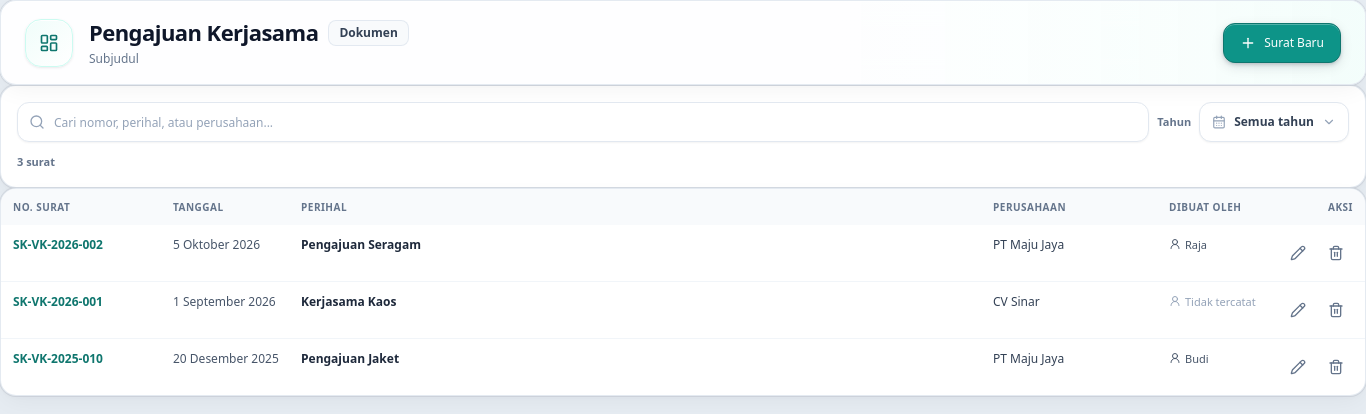
Test: LetterListView › pencarian menyaring baris
In the field named "Cari surat": (583, 122) [17,102,1149,142], type "kaos"
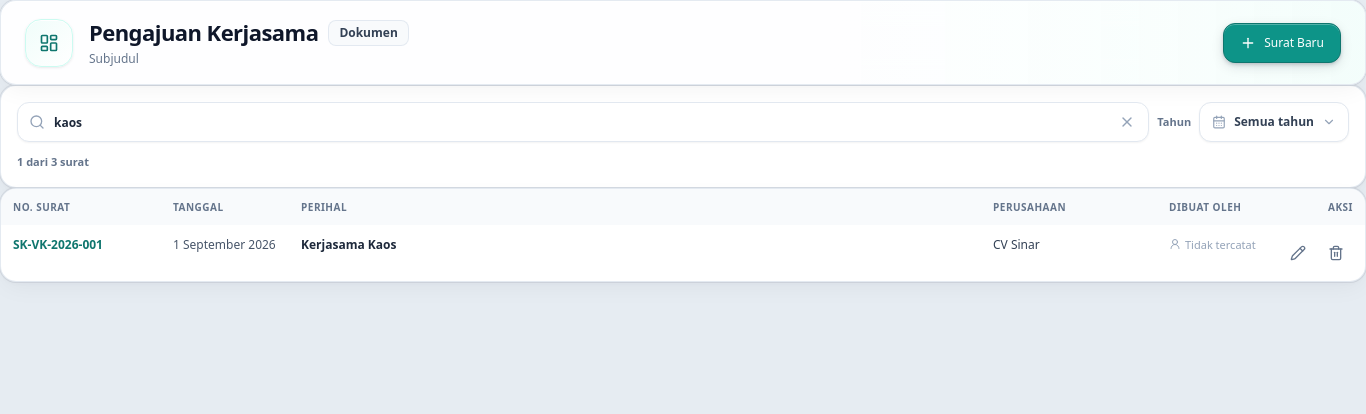
Expected: the text "1 dari 3 surat" is shown, [17,154,89,169]
